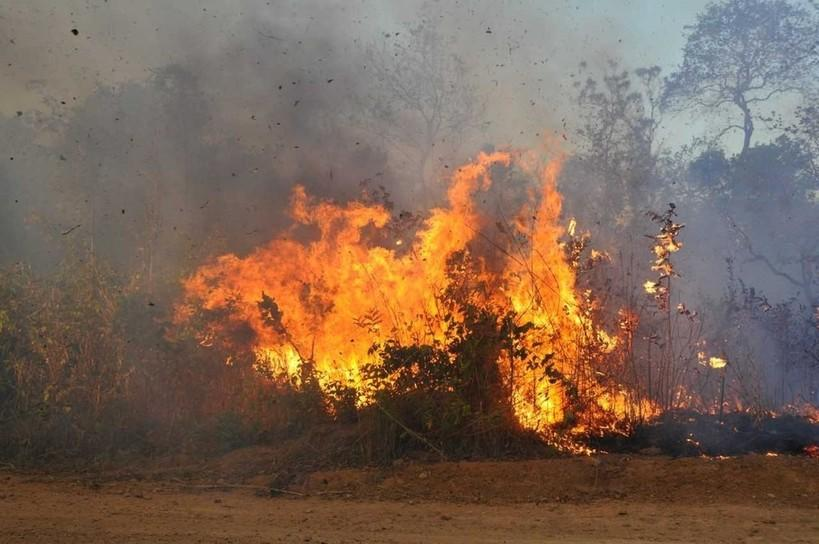Fire: (189, 149, 641, 425)
